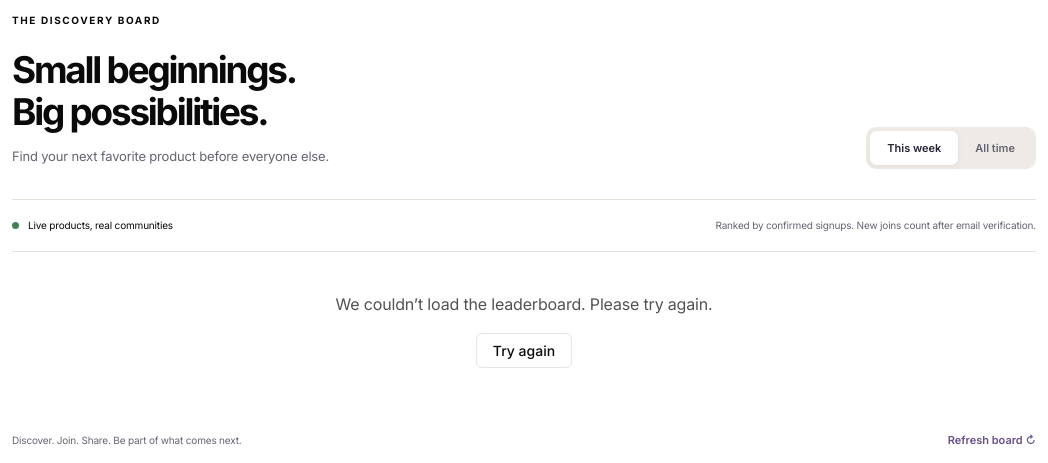
Test: Product discovery › offers a retry after a failure without displaying fabricated rankings
Expected: the message shows "couldn’t load", [336, 294, 712, 314]
Click the button "Try again". click: (524, 351)
box: [476, 333, 572, 368]
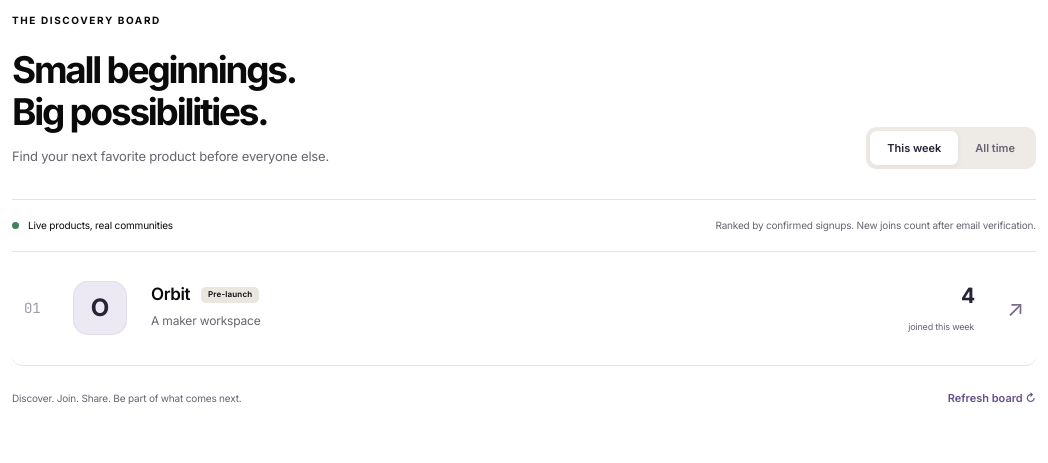
Expected: the link "01 O Orbit Pre-launch A maker workspace 4 joined this week ↗" is shown, [12, 252, 1036, 366]
